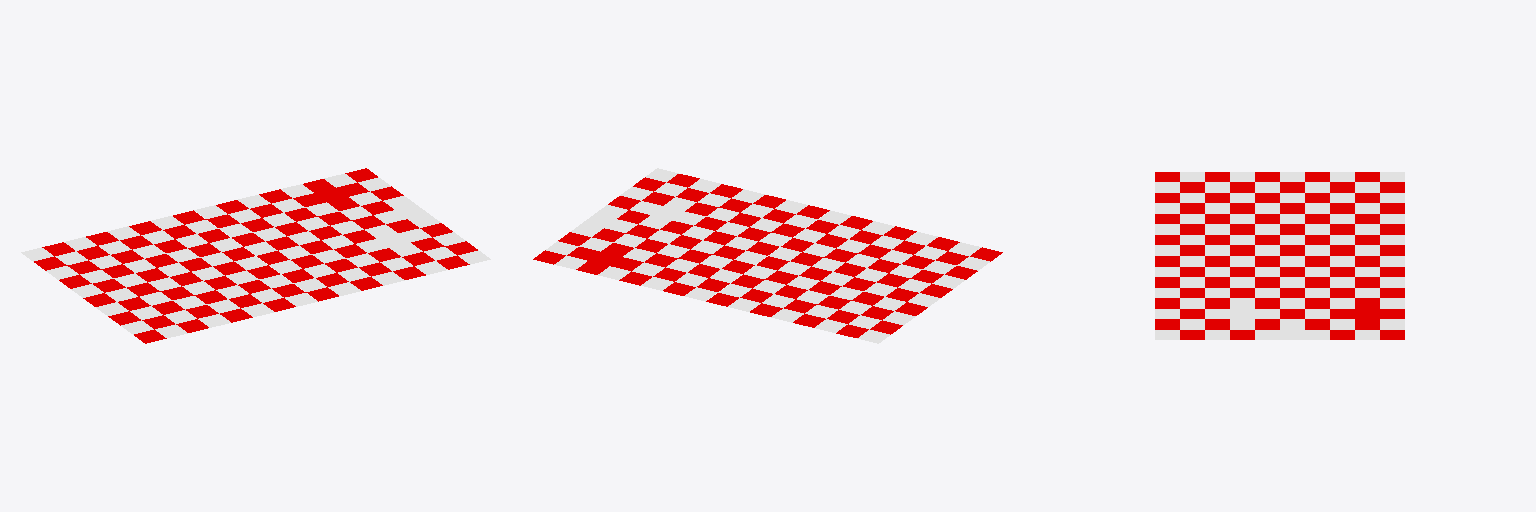
3 views of the same model, side by side, from view 1: azimuth 30°, elevation 25°; view 2: azimuth 150°, elevation 25°; view 3: azimuth 270°, elevation 25° (orthographic).
Visible parts, largest first — view 1: checkerboard; view 2: checkerboard; view 3: checkerboard.
Part boxes in pixels (left/top/right/bottom): checkerboard: left=21, top=168, right=490, bottom=343; checkerboard: left=533, top=168, right=1002, bottom=343; checkerboard: left=1155, top=172, right=1404, bottom=339.
Bounding box in the file's own units: 52.13 × 0 × 32.54.